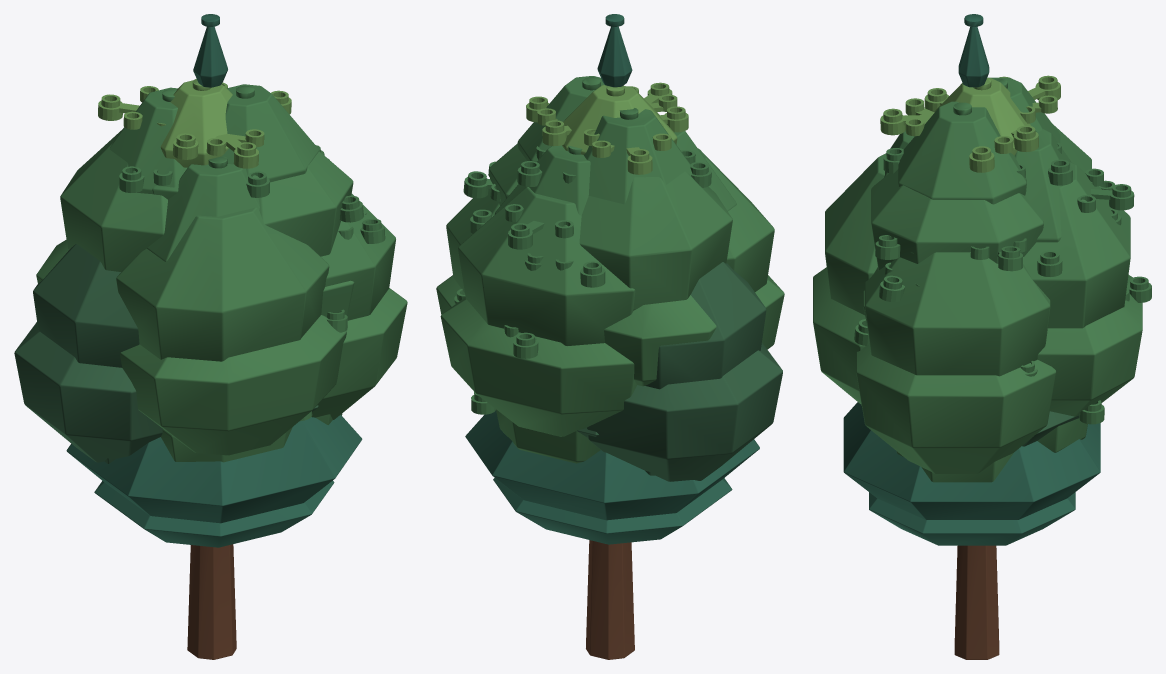
The model's file is forest-lod0.glb.
3 renders of one model, left to right at view 1: azimuth 30°, elevation 25°; view 2: azimuth 150°, elevation 25°; view 3: azimuth 270°, elevation 25°, orthographic.
Visible parts, largest first — view 1: 01_beech, 00_oak, 03_birch, 04_spruce, 05_young_fir, 02_young_oak; view 2: 01_beech, 00_oak, 03_birch, 04_spruce, 05_young_fir, 02_young_oak; view 3: 01_beech, 00_oak, 03_birch, 04_spruce, 05_young_fir, 02_young_oak.
Part boxes in pixels (x1,y1,x2,y2): 01_beech: (33, 129, 395, 659); 00_oak: (14, 239, 407, 462); 03_birch: (98, 79, 363, 261); 04_spruce: (66, 14, 362, 523); 05_young_fir: (94, 480, 334, 547); 02_young_oak: (104, 411, 342, 463); 01_beech: (446, 143, 774, 659); 00_oak: (436, 275, 784, 481); 03_birch: (463, 76, 736, 249); 04_spruce: (465, 14, 759, 520); 05_young_fir: (493, 478, 732, 544); 02_young_oak: (471, 392, 654, 475); 01_beech: (825, 124, 1130, 659); 00_oak: (813, 267, 1151, 473); 03_birch: (875, 75, 1134, 271); 04_spruce: (843, 14, 1100, 519); 05_young_fir: (869, 492, 1075, 545); 02_young_oak: (861, 400, 1104, 482).
Size of the model in its own units: 11.88 by 22.18 by 10.79.
